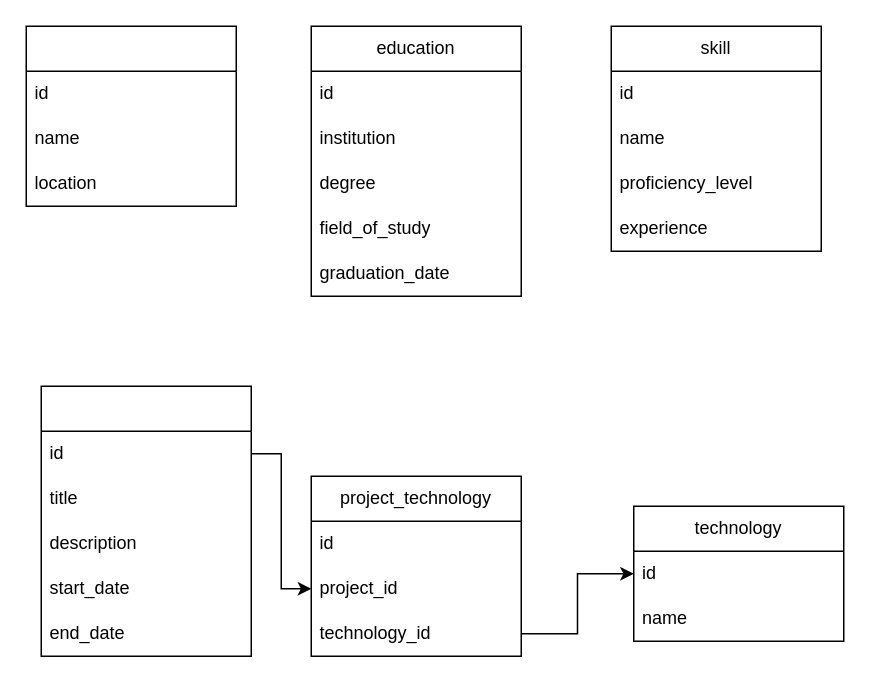
The diagram is 870 pixels wide and 683 high, and some of its shapes have lost their labels. Here are the shapes that lost their labels. From the top down, the box of each, then its label:
(25, 25, 236, 206): Company
(40, 385, 251, 656): project
